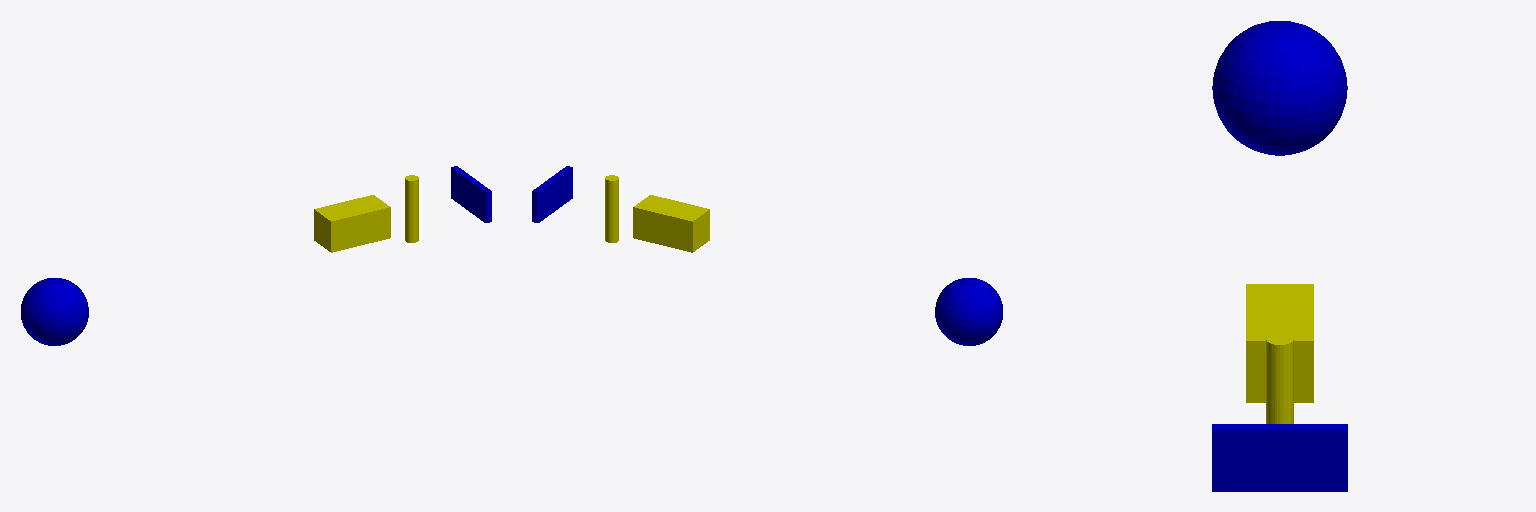
URDF robot description (shovel):
<?xml version="1.0"?>
<robot name="shovel">

  <!-- Materials -->  
  <material name="dark_grey"><color rgba="0.2 0.2 0.2 1.0" /></material>
  <material name="light_grey"><color rgba="0.4 0.4 0.4 1.0" /></material>
  <material name="yellow"><color rgba="0.8 0.8 0.0 1.0" /></material>
  <material name="black"><color rgba="0.15 0.15 0.15 1.0" /></material>
  <material name="blue"><color rgba="0 0 .8 1"/></material>

  <!-- base_link -->
  <!-- just using this as a very heavy and fixed ref. frame -->
  <link name="base_link">
    <visual>
      <origin xyz="0 0 0" rpy="0 0 0"/>
      <geometry>        
        <!-- 5 cm radius sphere -->
        <sphere radius="5e-2"/>
      </geometry>      
      <material name="blue" />
    </visual>
    <collision>
      <geometry>        
        <!-- 5 cm radius sphere -->
        <sphere radius="5e-2"/>
      </geometry>
    </collision>
    <inertial>
      <!-- set mass and inertia to zero: make it fixed  -->
      <mass value="0"/>
      <inertia ixx="0" ixy="0" ixz="0" iyy="0" iyz="0" izz="0"/>
    </inertial>
  </link>

  <!-- from base to L1: prismatic -->
  <joint name="base_L1_joint" type="prismatic">
    <axis xyz="1 0 0"/> 
    <origin xyz="5e-1 0 2.5e-2" rpy="0 0 0" />
    <parent link="base_link"/>
    <child link="L1_link" />        
    <limit lower="-10" upper="10" effort="1e2" velocity="0.5"/>
    <safety_controller k_position="10" k_velocity="10" soft_lower_limit="-9.5" soft_upper_limit="9.5"/>
    <dynamics damping="0.0" friction="0.1"/>
  </joint>

  <!-- L1_link -->
  <link name="L1_link">
    <visual>
      <origin xyz="0 0 0" rpy="0 0 0"/>
      <geometry>
        <!-- 10x20x10 cm box -->
        <box size="1e-1 5e-2 5e-2"/>
      </geometry>
      <material name="yellow" />
    </visual>
    <collision>
      <origin xyz="0 0 0" rpy="0 0 0"/>
      <geometry>
        <box size="5e-2 1e-2 5e-2"/>        
      </geometry>
    </collision>
    <inertial>      
      <origin xyz="0 0 0" rpy="0 0 0"/>
      <!-- 20 grams - 0.02 kg -->
      <mass value="20e-3"/> 
      <!-- inertia (anisotropic): m*l^2 [kg x m^2]-->   
      <inertia ixx="5e-5" ixy="0.0" ixz="0.0" iyy="2e-5" iyz="0.0" izz="5e-5"/>
      </inertial>
  </link>

  <!-- from L1 to L2: revolute -->
  <joint name="L1_L2_joint" type="revolute">
    <axis xyz="0 0 1"/> 
    <!-- offset on x-axis -->
    <origin xyz="1e-1 0 0" rpy="0 0 0" />
    <parent link="L1_link"/>
    <child link="L2_link" />        
    <limit lower="-3.1415" upper="3.1415" effort="1e2" velocity="0.2"/>
    <safety_controller k_position="10" k_velocity="10" soft_lower_limit="-3.14" soft_upper_limit="3.14"/>
    <dynamics damping="0.0" friction="0.1"/>
  </joint>

  <!-- L2_link -->
  <link name="L2_link">
    <visual>
      <origin xyz="0 0 0" rpy="0 0 0"/>
      <geometry>        
        <cylinder radius="1e-2" length="1e-1"/>
      </geometry>
      <material name="yellow" />
    </visual>
    <collision>
      <origin xyz="0 0 0" rpy="0 0 0"/>
      <geometry>
        <cylinder radius="1e-2" length="1e-1"/>
      </geometry>
    </collision>
    <inertial>      
      <origin xyz="0 0 0" rpy="0 0 0"/>      
      <mass value="0.0"/>       
      <inertia ixx="0.0" ixy="0.0" ixz="0.0" iyy="0.0" iyz="0.0" izz="0.0"/>
      </inertial>
  </link>

  <!-- from L2 to EE: revolute -->
  <joint name="L2_EE_joint" type="revolute">
    <!-- rotation along z-axis -->
    <axis xyz="0 0 1"/> 
    <!-- 5cm shift along x-axis -->
    <origin xyz="1e-1 0 0" rpy="0 0 0" />
    <!-- rest of data -->
    <parent link="L2_link"/>
    <child link="EE_link" />        
    <limit lower="-1.57" upper="1.57" effort="1e2" velocity="0.2"/>
    <safety_controller k_position="10" k_velocity="10" soft_lower_limit="-0.15" soft_upper_limit="0.15"/>
    <dynamics damping="0.0" friction="0.1"/>
  </joint>

  <!-- EE_link -->
  <link name="EE_link">
    <visual>
      <origin xyz="0 0 0" rpy="0 0 0"/>
      <geometry>        
        <!-- 10x20x10 cm box -->
        <box size="1e-2 1e-1 5e-2"/>
      </geometry>   
      <material name="blue" />   
    </visual>
    <collision>
      <origin xyz="0 0 0" rpy="0 0 0"/> 
      <geometry>
        <box size="1e-2 1e-1 5e-2"/>   
      </geometry>     
    </collision>
    <inertial>      
      <origin xyz="0 0 0" rpy="0 0 0"/>
      <!-- 20 grams - 0.02 kg-->
      <mass value="20e-3"/> 
      <!-- ineetia (anisotropic): m*l^2  [kg x m^2]  -->
      <inertia ixx="5e-5" ixy="0.0" ixz="0.0" iyy="2e-4" iyz="0.0" izz="5e-5"/>
      </inertial>
  </link>
  
</robot>

--- What the picture shows (computed from the rendered views, not written in the file) ---
Views: 3 orthographic renders of the robot side by side, from view 1: azimuth 30°, elevation 25°; view 2: azimuth 150°, elevation 25°; view 3: azimuth 270°, elevation 25°.
Model shovel with 4 links and 3 joints (2 revolute, 1 prismatic), rooted at base_link, posed every joint at zero.
Links seen in each view (by area): view 1: base_link, L1_link, EE_link, L2_link; view 2: base_link, L1_link, EE_link, L2_link; view 3: base_link, EE_link, L1_link, L2_link.
Boxes of the visible links, bbox=[...] form: base_link: bbox=[21, 278, 88, 345]; L1_link: bbox=[314, 195, 390, 252]; EE_link: bbox=[451, 166, 491, 222]; L2_link: bbox=[405, 175, 418, 242]; base_link: bbox=[935, 278, 1002, 345]; L1_link: bbox=[633, 195, 709, 252]; EE_link: bbox=[532, 166, 572, 222]; L2_link: bbox=[605, 175, 618, 242]; base_link: bbox=[1212, 21, 1347, 155]; EE_link: bbox=[1212, 424, 1347, 491]; L1_link: bbox=[1246, 284, 1313, 402]; L2_link: bbox=[1266, 334, 1293, 423].
Bounding box of the posed robot: 0.755 × 0.1 × 0.125 m (x, y, z).
Geometry: primitives only (box / cylinder / sphere), no mesh files.